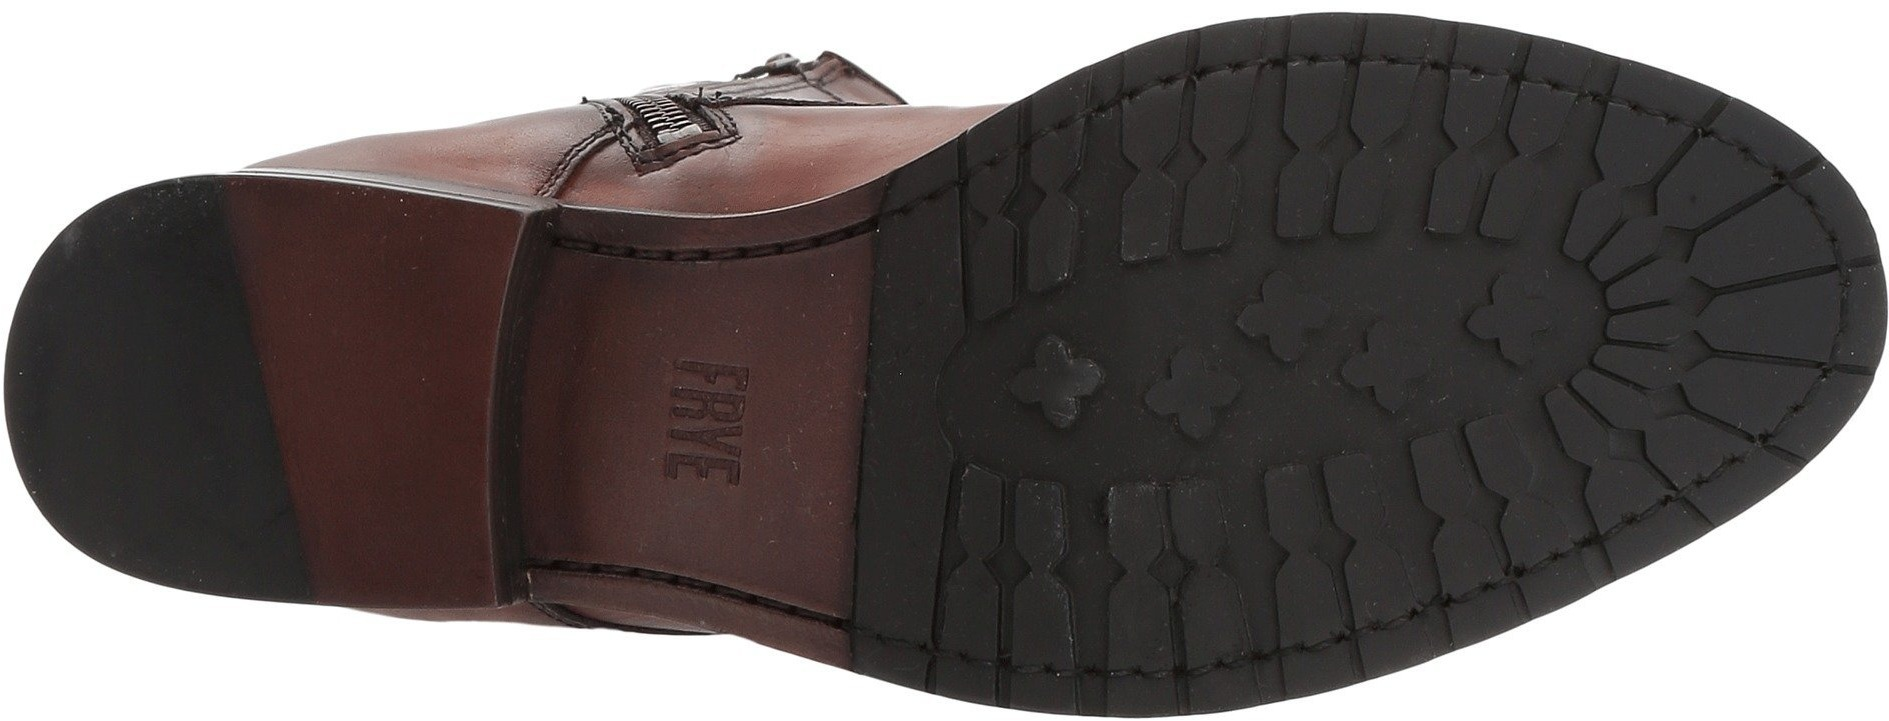bowtie: (1567, 189, 1850, 435), (1265, 41, 1524, 254), (969, 451, 1205, 682), (1259, 442, 1469, 645)
exclude: (482, 170, 894, 682), (217, 17, 1057, 241), (302, 598, 760, 652)
other: (45, 266, 322, 516), (325, 218, 492, 389)
star: (1222, 262, 1347, 381), (1128, 342, 1244, 455), (1444, 269, 1560, 376), (1000, 327, 1102, 435)
